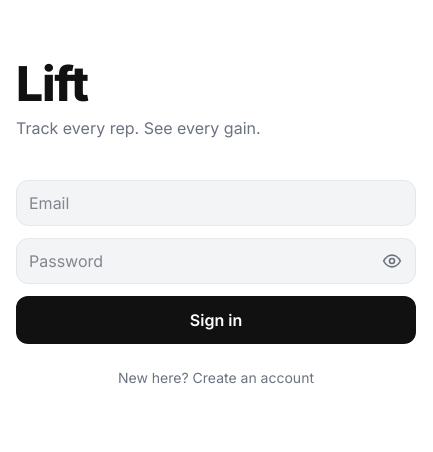
Scenario: LoginPage › switching back to sign in drops the confirm field and message
Step 1. Click the button "New here? Create an account" → x=216, y=378, box x1=16 y1=368 x2=416 y2=388
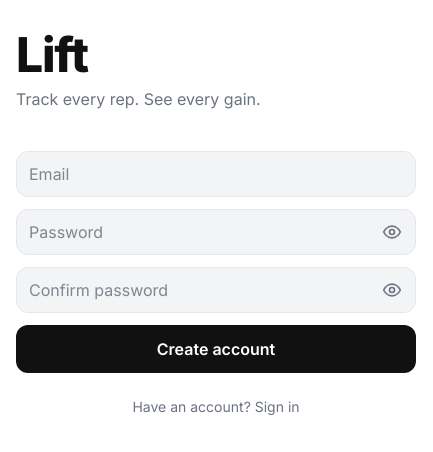
Step 2. Type "a@b.co" into the field with placeholder "Email" → x=216, y=174, box x1=16 y1=151 x2=416 y2=197
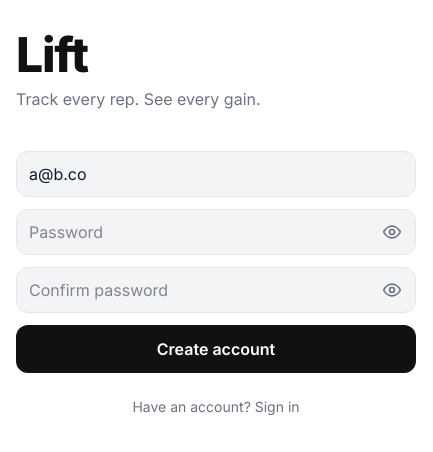
Step 3. Type "secret1" into the password field with placeholder "Password" → x=216, y=232, box x1=16 y1=209 x2=416 y2=255
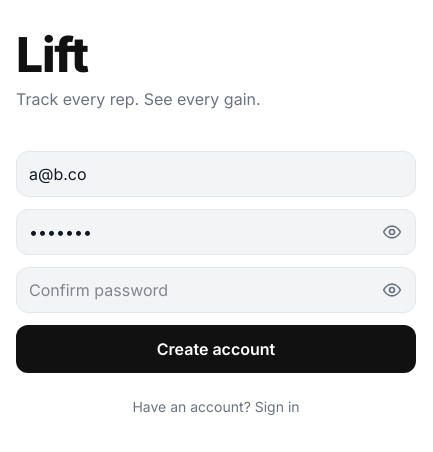
Step 4. Type "nope123" into the password field with placeholder "Confirm password" → x=216, y=290, box x1=16 y1=267 x2=416 y2=313
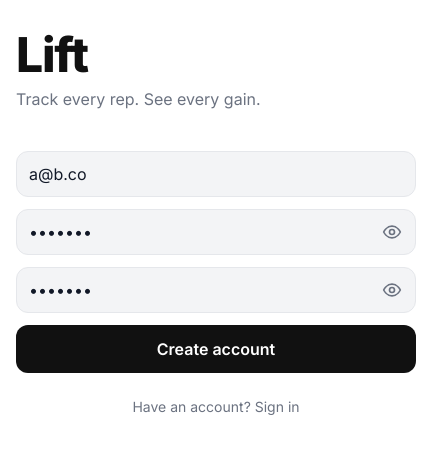
Step 5. Click the button "Create account" → x=216, y=349, box x1=16 y1=325 x2=416 y2=373
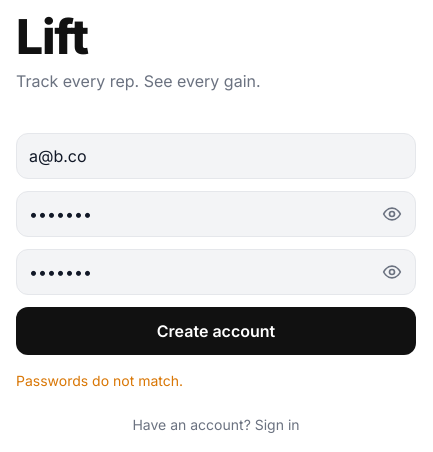
Expected: the text "Passwords do not match." is shown, x1=16 y1=372 x2=183 y2=389
Step 6. Click the button "Have an account? Sign in" → x=216, y=425, box x1=16 y1=415 x2=416 y2=435
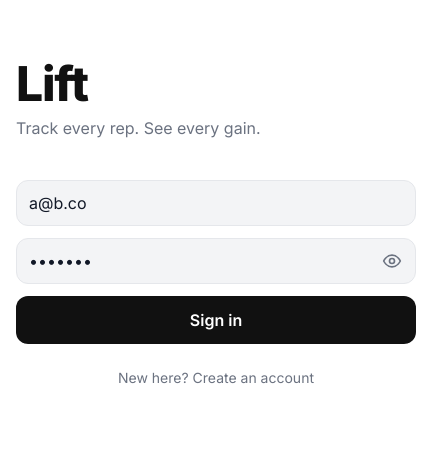
Expected: the text "Passwords do not match." is gone
